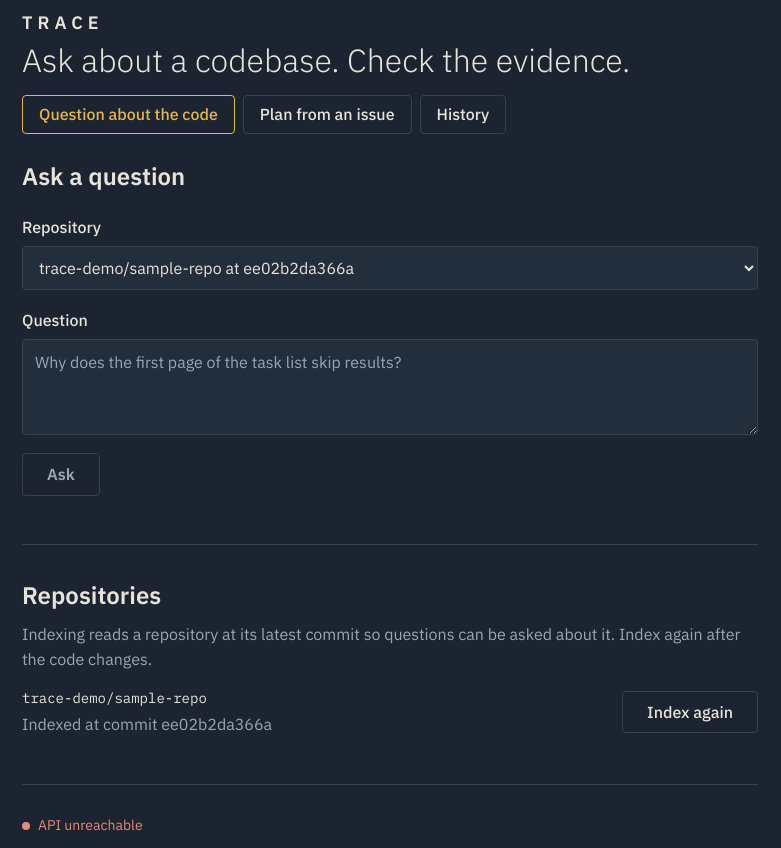
it: issue list › says so when the repository has no open issues
Click the button "Plan from an issue". click: click(327, 115)
box: x1=243 y1=95 x2=412 y2=134
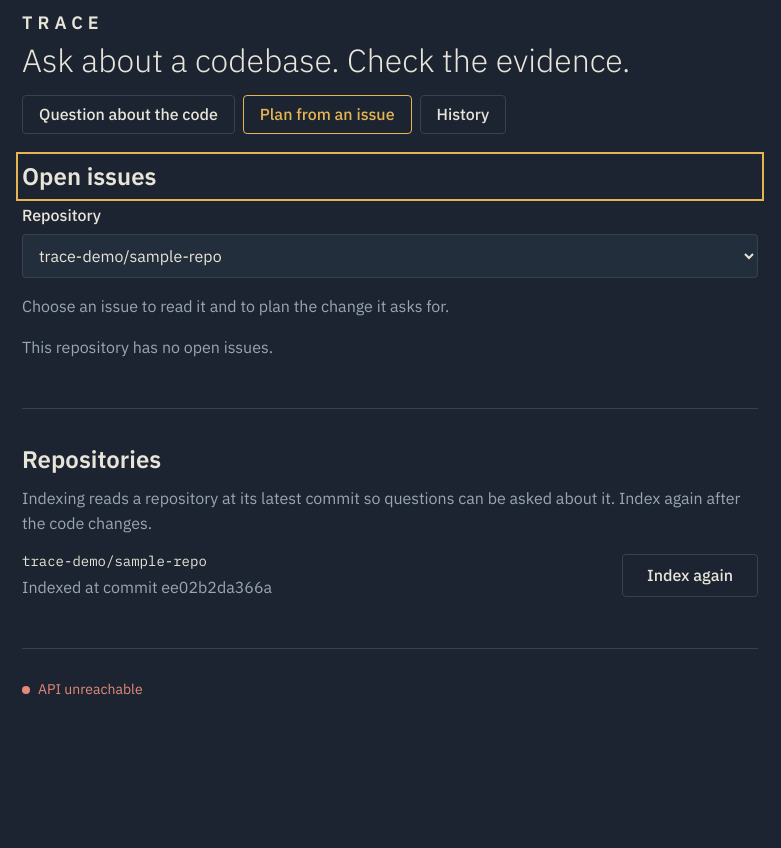
Expected: the text "This repository has no open issues." is shown, x1=22 y1=337 x2=273 y2=357
